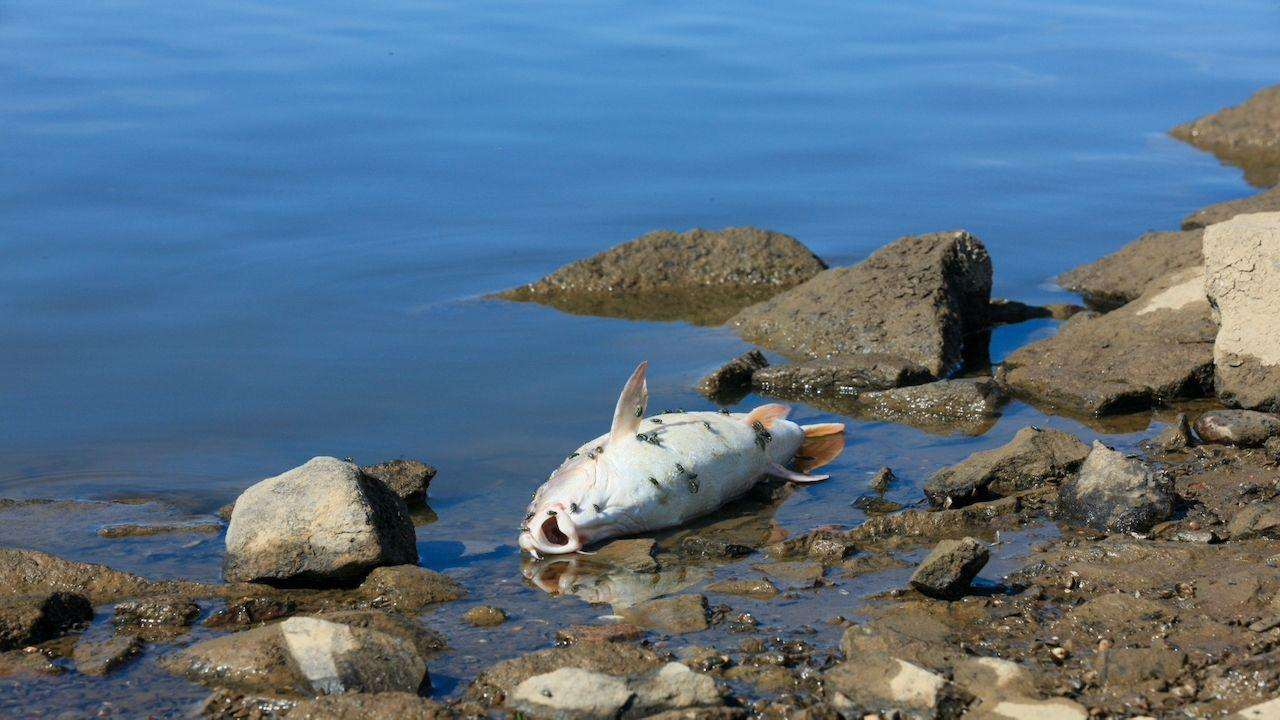Fish: (489, 354, 876, 561)
